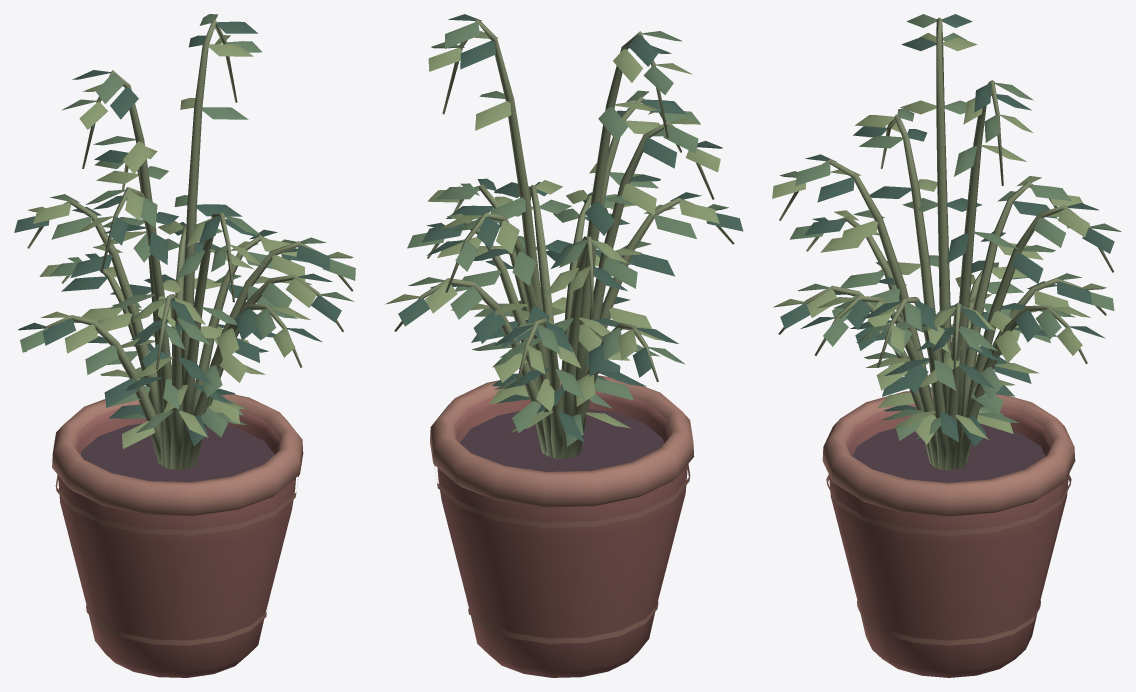
File: fern.glb
The picture shows the model from 3 angles, left to right: view 1: azimuth 30°, elevation 25°; view 2: azimuth 150°, elevation 25°; view 3: azimuth 270°, elevation 25°; orthographic projection. The views are drawn at different scales.
Visible parts, largest first — view 1: fern; view 2: fern; view 3: fern.
Part boxes in pixels (x1,y1,x2,y2): fern: (14, 14, 355, 677); fern: (385, 14, 743, 677); fern: (772, 14, 1121, 677).
Bounding box in the file's own units: 0.4453 × 0.8855 × 0.4708.
